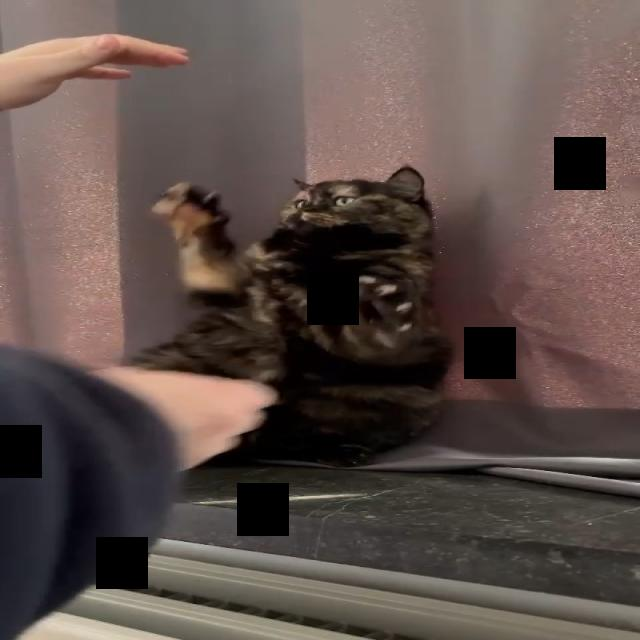authorized: (129, 164, 455, 468)
